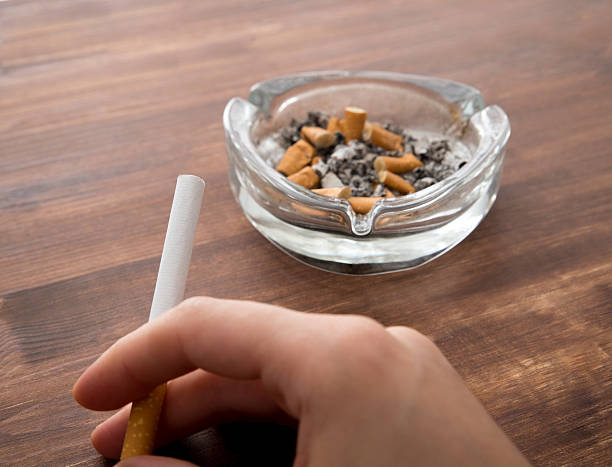cigarette: (114, 173, 207, 467), (276, 140, 320, 176), (360, 121, 407, 151), (343, 105, 367, 146), (378, 170, 417, 195), (299, 124, 334, 151), (374, 153, 426, 171), (287, 164, 321, 190), (344, 196, 391, 213), (312, 185, 355, 198), (327, 115, 343, 144)
